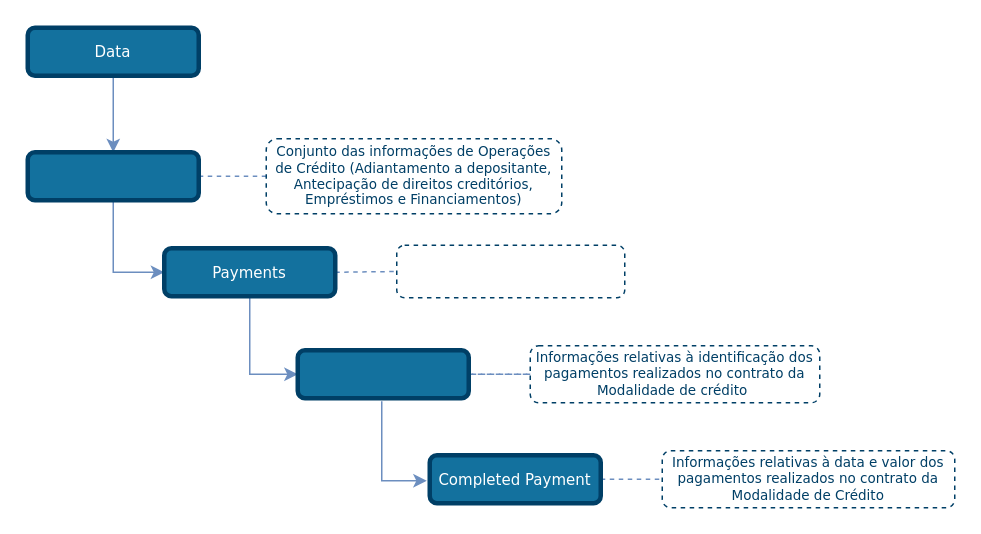
This 981x534 diagram has some shape labels left out. Here are the shapes that lost their labels. From the top down, the box of each, then its label:
(25, 149, 200, 202): Bank Borrowing
(395, 244, 625, 298): Conjunto de informações dos Pagamentos do contrato da Modalidade de Crédito
(295, 347, 470, 400): Releases
